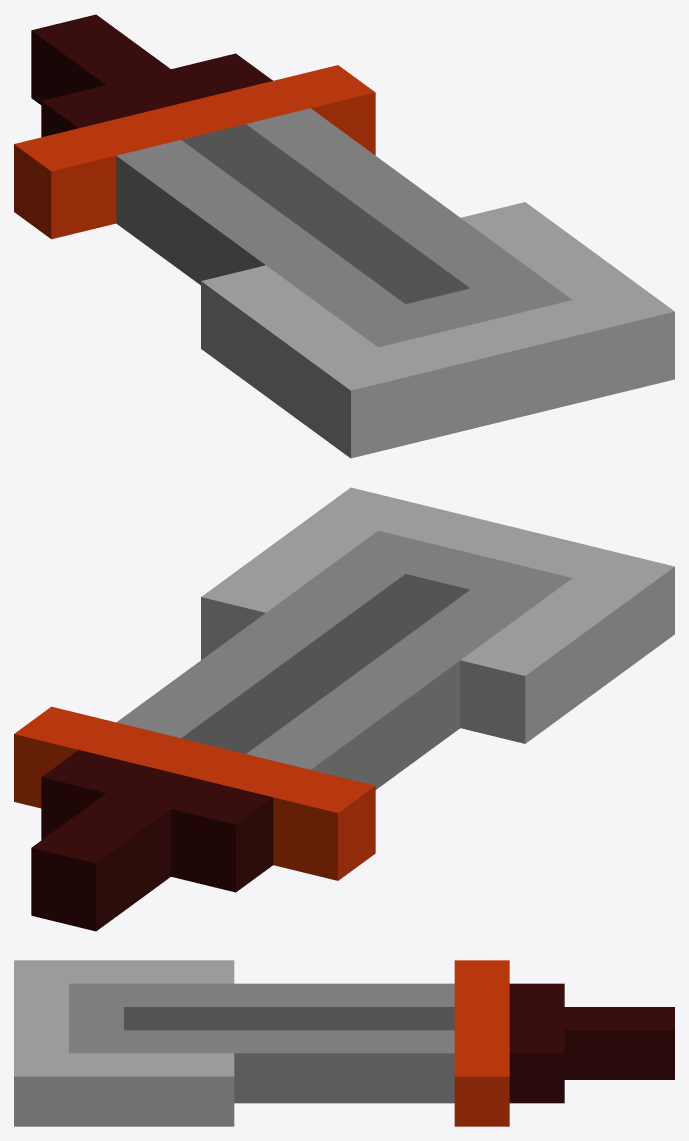
Rendered from Claymore.obj.
3 views of the same model, one above another, from view 1: azimuth 30°, elevation 25°; view 2: azimuth 150°, elevation 25°; view 3: azimuth 270°, elevation 25° (orthographic). The views are drawn at different scales.
Bounding box in the file's own units: 5 × 1 × 12.
Materials: 1 (1 with a texture image).
